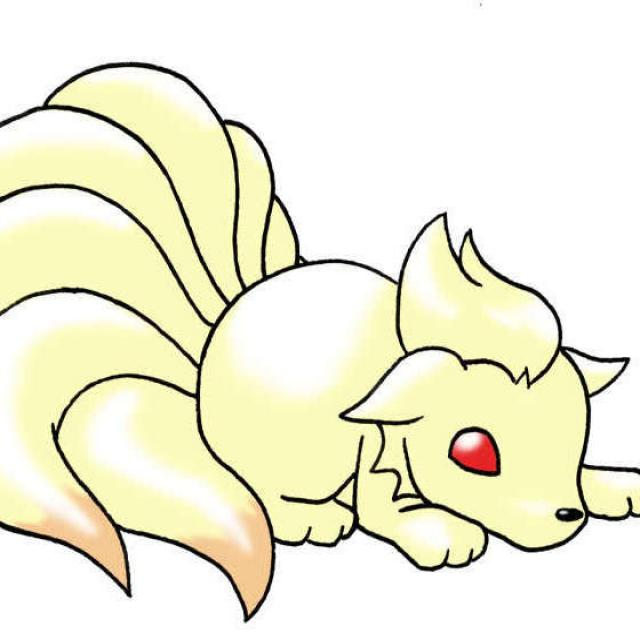Ninetales: (4, 230, 593, 559)
